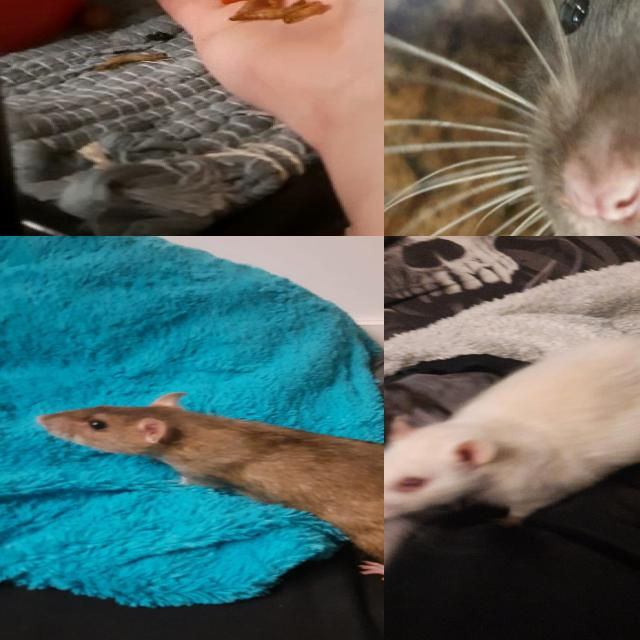rat: (38, 390, 384, 579), (384, 335, 640, 524), (494, 0, 640, 236)
